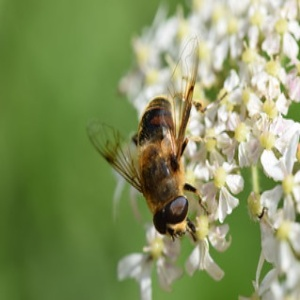bee: (87, 35, 205, 242)
